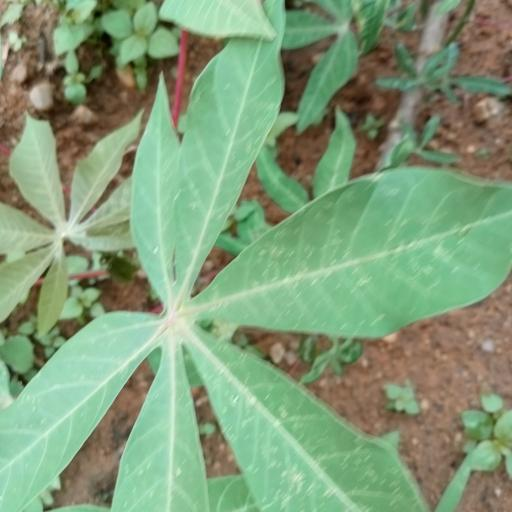Cassava_Mosaic: (68, 84, 512, 504)
